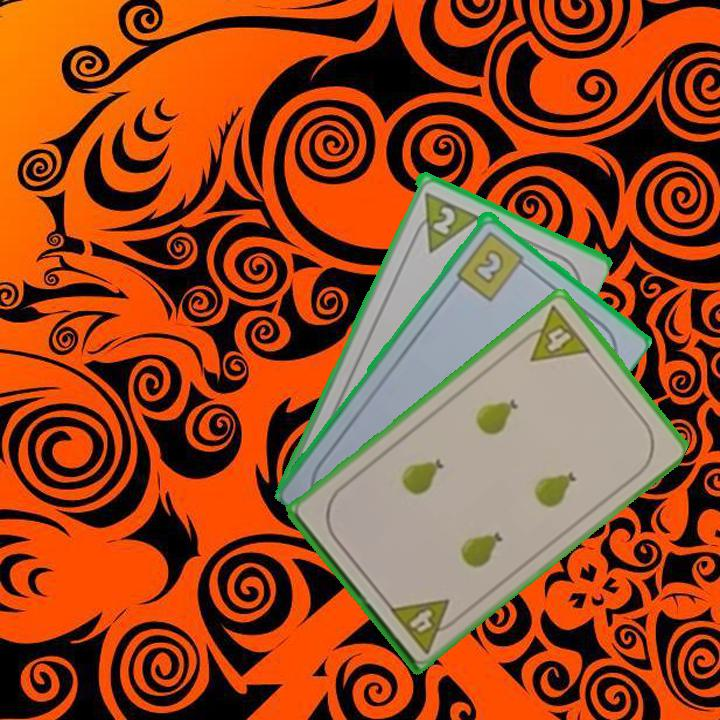2b: (453, 227, 533, 303)
2p: (406, 187, 480, 255)
4p: (514, 302, 594, 365), (385, 594, 464, 656)
